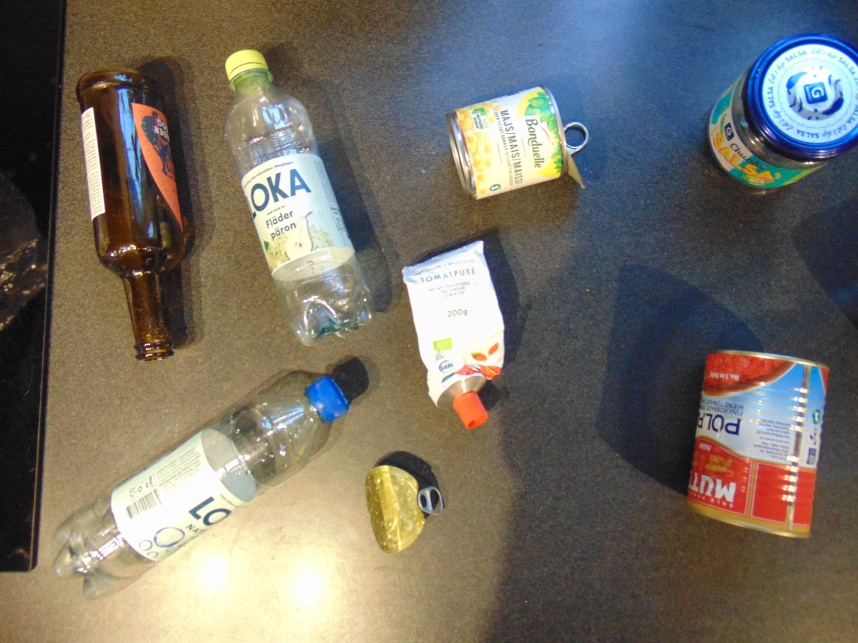glass_bottle: (75, 66, 190, 364), (706, 37, 858, 191)
metal: (398, 238, 509, 417), (746, 32, 856, 160), (365, 461, 445, 553), (559, 116, 597, 187)
metal_can: (686, 347, 830, 543), (445, 87, 569, 203)
plastic_bottle: (49, 375, 350, 601), (223, 46, 375, 347)
